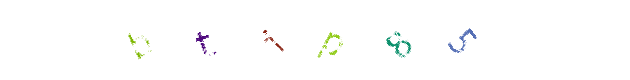5: (380, 0, 460, 80)
8: (358, 0, 438, 80)
B: (191, 0, 271, 80)
I: (266, 0, 346, 80)
P: (274, 0, 354, 80)
T: (225, 0, 305, 80)
